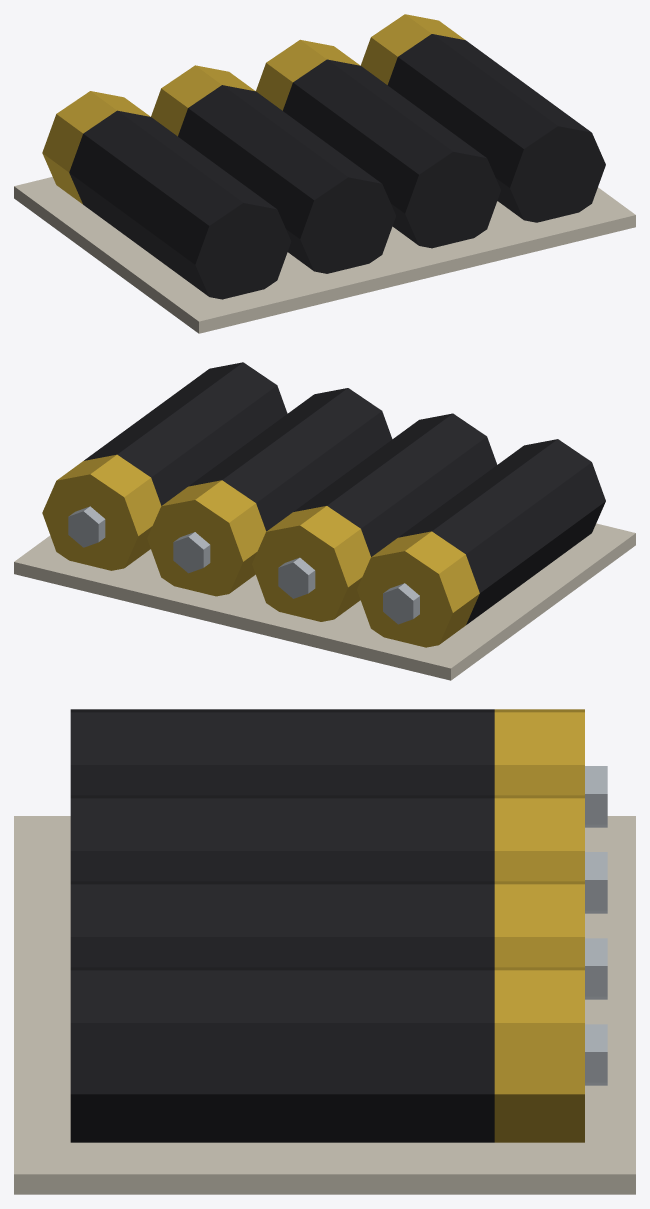
File: batteries.glb
3 views of the same model, one above another, from view 1: azimuth 30°, elevation 25°; view 2: azimuth 150°, elevation 25°; view 3: azimuth 270°, elevation 25° (orthographic). The views are drawn at different scales.
Parts seen in each view (by area): view 1: Item; view 2: Item; view 3: Item.
Part boxes in pixels (box(x1,y1,x2,y2)): Item: box(14, 14, 635, 333); Item: box(14, 362, 635, 680); Item: box(14, 709, 635, 1194).
Bounding box in the file's own units: 0.195 × 0.0442 × 0.143.
